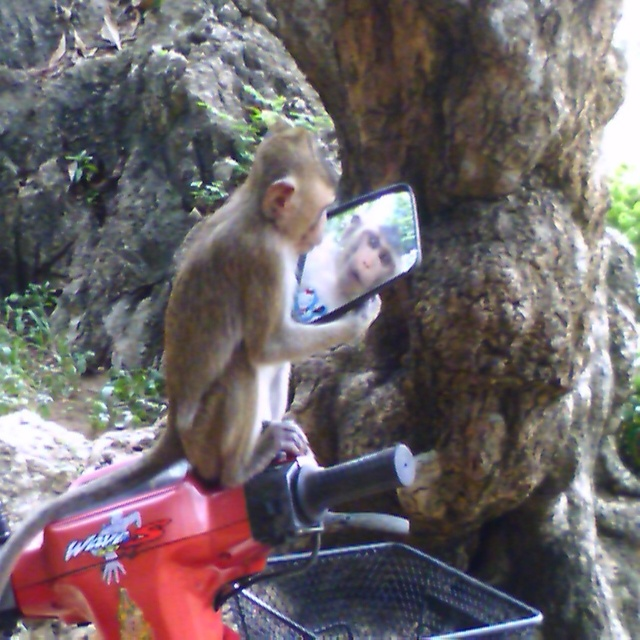Monkey: (0, 124, 383, 597)
